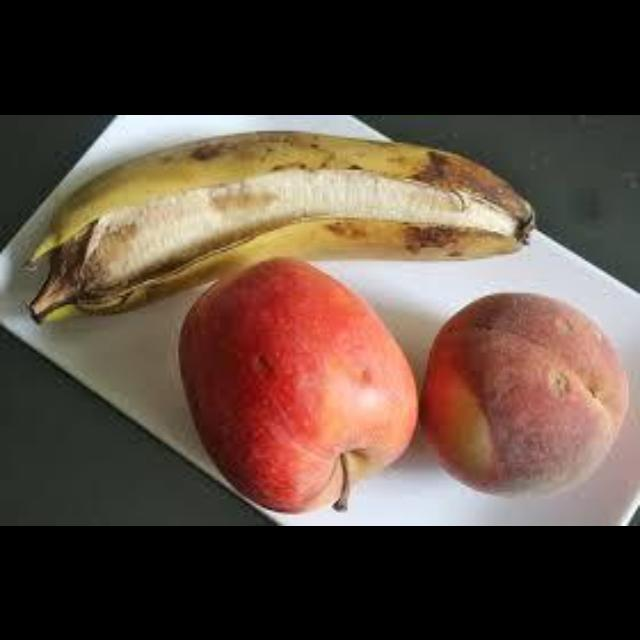apple: (181, 258, 416, 512)
pest: (256, 354, 267, 370), (361, 368, 370, 381)
